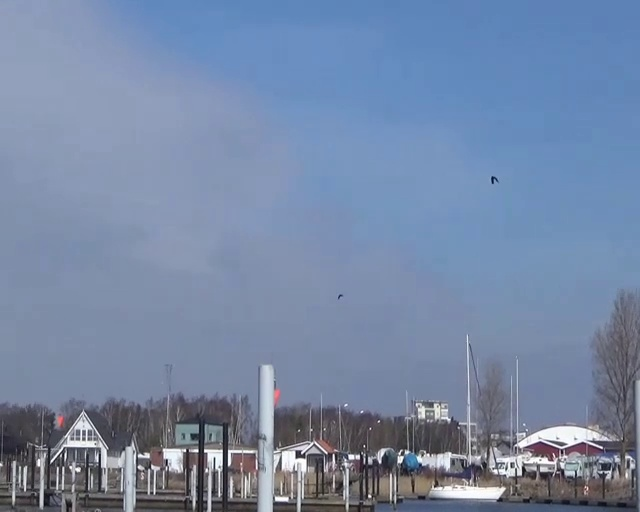BIRD: (490, 175, 500, 184)
